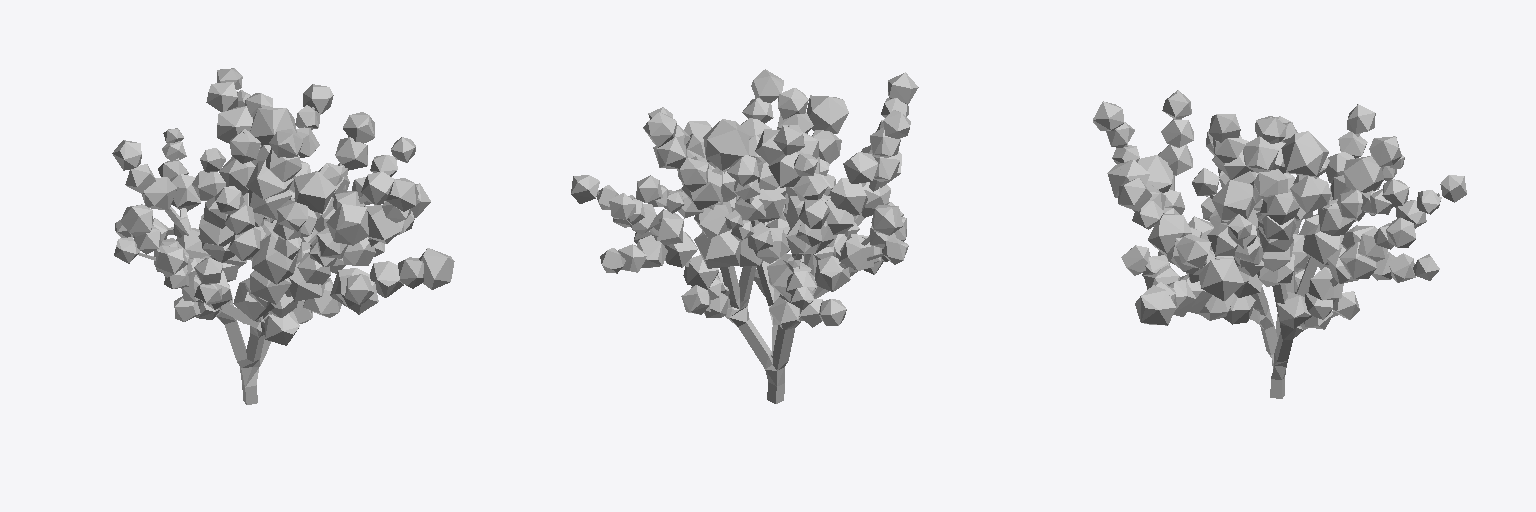
Rendered from uploads_files_3879418_Cherry+Blossom-Tree_Pack+JSGraphics_CGTrader.obj.
3 renders of one model, left to right at view 1: azimuth 30°, elevation 25°; view 2: azimuth 150°, elevation 25°; view 3: azimuth 270°, elevation 25°, orthographic.
Visible parts, largest first — view 1: Plane.193_Plane.214, Icosphere.3591_Icosphere.3617, Icosphere.1011_Icosphere.3544, Icosphere.3583_Icosphere.3609, Icosphere.3607_Icosphere.3633, Icosphere.1017_Icosphere.3550, Icosphere.3556_Icosphere.3582, Icosphere.3545_Icosphere.3571, Icosphere.1020_Icosphere.3553, Icosphere.1015_Icosphere.3548, Icosphere.3630_Icosphere.3656, Icosphere.3565_Icosphere.3591 (+28 smaller); view 2: Plane.193_Plane.214, Icosphere.3607_Icosphere.3633, Icosphere.1002_Icosphere.3535, Icosphere.3591_Icosphere.3617, Icosphere.3549_Icosphere.3575, Icosphere.3572_Icosphere.3598, Icosphere.3573_Icosphere.3599, Icosphere.3550_Icosphere.3576, Icosphere.3545_Icosphere.3571, Icosphere.3541_Icosphere.3567, Icosphere.1005_Icosphere.3538, Icosphere.3535_Icosphere.3561 (+28 smaller); view 3: Plane.193_Plane.214, Icosphere.3607_Icosphere.3633, Icosphere.3614_Icosphere.3640, Icosphere.3583_Icosphere.3609, Icosphere.1017_Icosphere.3550, Icosphere.3545_Icosphere.3571, Icosphere.1020_Icosphere.3553, Icosphere.3606_Icosphere.3632, Icosphere.1002_Icosphere.3535, Icosphere.999_Icosphere.1023, Icosphere.1022_Icosphere.3555, Icosphere.1011_Icosphere.3544 (+28 smaller).
Part boxes in pixels (x1,y1,x2,y2): Plane.193_Plane.214: (138, 91, 396, 404); Icosphere.3591_Icosphere.3617: (326, 204, 368, 245); Icosphere.1011_Icosphere.3544: (252, 234, 298, 284); Icosphere.3583_Icosphere.3609: (294, 171, 336, 213); Icosphere.3607_Icosphere.3633: (250, 108, 296, 144); Icosphere.1017_Icosphere.3550: (419, 248, 454, 289); Icosphere.3556_Icosphere.3582: (246, 160, 293, 199); Icosphere.3545_Icosphere.3571: (217, 106, 252, 143); Icosphere.1020_Icosphere.3553: (364, 205, 404, 243); Icosphere.1015_Icosphere.3548: (370, 261, 403, 297); Icosphere.3630_Icosphere.3656: (265, 312, 299, 345); Icosphere.3565_Icosphere.3591: (142, 177, 176, 210); Plane.193_Plane.214: (597, 125, 883, 403); Icosphere.3607_Icosphere.3633: (703, 119, 748, 170); Icosphere.1002_Icosphere.3535: (694, 229, 741, 268); Icosphere.3591_Icosphere.3617: (807, 95, 848, 133); Icosphere.3549_Icosphere.3575: (830, 178, 867, 215); Icosphere.3572_Icosphere.3598: (815, 256, 850, 291); Icosphere.3573_Icosphere.3599: (839, 234, 873, 270); Icosphere.3550_Icosphere.3576: (843, 152, 877, 183); Icosphere.3545_Icosphere.3571: (682, 170, 721, 209); Icosphere.3541_Icosphere.3567: (653, 209, 683, 244); Icosphere.1005_Icosphere.3538: (694, 204, 730, 237); Icosphere.3535_Icosphere.3561: (643, 112, 676, 147); Plane.193_Plane.214: (1120, 117, 1439, 398); Icosphere.3607_Icosphere.3633: (1281, 131, 1328, 177); Icosphere.3614_Icosphere.3640: (1199, 259, 1244, 300); Icosphere.3583_Icosphere.3609: (1212, 180, 1255, 219); Icosphere.1017_Icosphere.3550: (1135, 285, 1175, 325); Icosphere.3545_Icosphere.3571: (1344, 156, 1384, 192); Icosphere.1020_Icosphere.3553: (1148, 213, 1191, 257); Icosphere.3606_Icosphere.3632: (1290, 176, 1330, 213); Icosphere.1002_Icosphere.3535: (1303, 224, 1343, 269); Icosphere.999_Icosphere.1023: (1243, 136, 1278, 172); Icosphere.1022_Icosphere.3555: (1176, 234, 1211, 268); Icosphere.1011_Icosphere.3544: (1138, 155, 1172, 192).
Size of the model in its own units: 13.3 by 13.14 by 15.47.